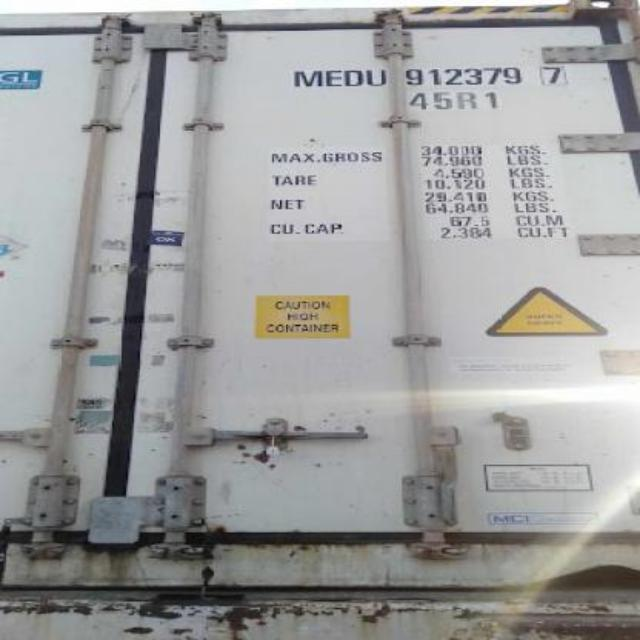1: (424, 68, 444, 88)
2: (444, 66, 468, 88)
3: (464, 66, 486, 88)
7: (538, 64, 574, 86), (478, 66, 504, 86)
9: (404, 66, 426, 90), (502, 66, 526, 88)
D: (342, 69, 366, 87)
E: (324, 68, 344, 88)
M: (292, 70, 324, 88)
U: (362, 68, 392, 88)
